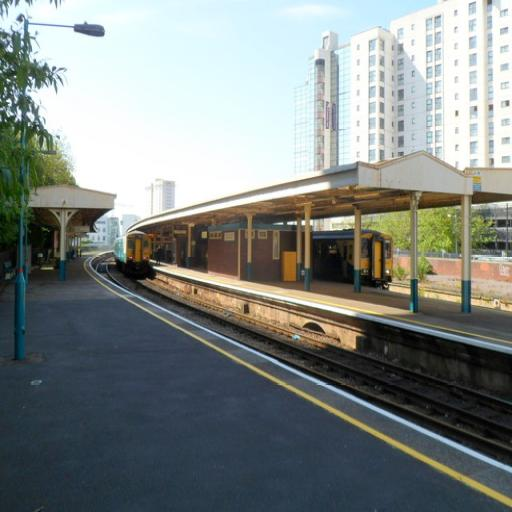platform_edge: (372, 396, 512, 510), (245, 360, 371, 412), (136, 301, 215, 336)
